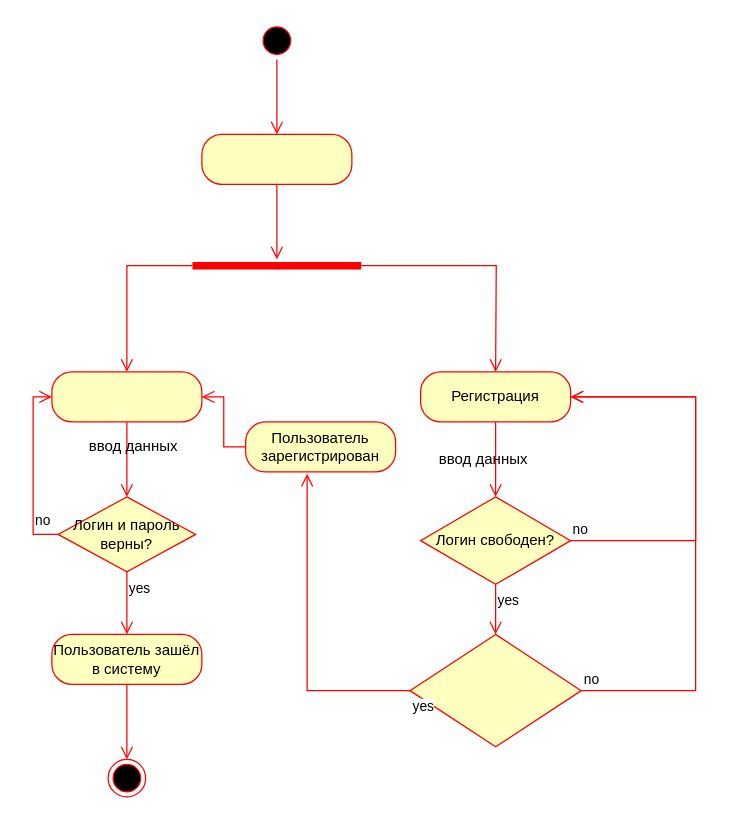
The diagram is 730 pixels wide and 819 high, and some of its shapes have lost their labels. The shapes that lost their labels are listed below. From the top down, each one's centre as x and y in pixels, then its label:
At (276,158): "Вход в приложение".
At (126,396): "авторизация".
At (495,690): "Пароль подходит по требованиям?".
